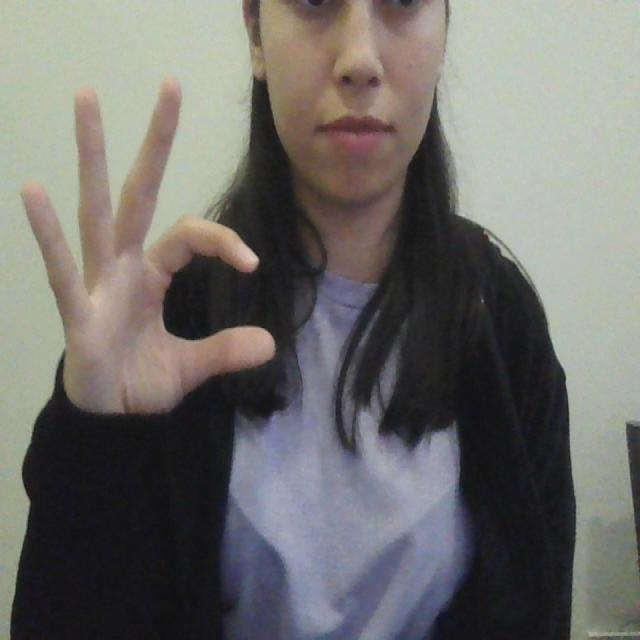Tuvalet: (18, 69, 276, 425)
